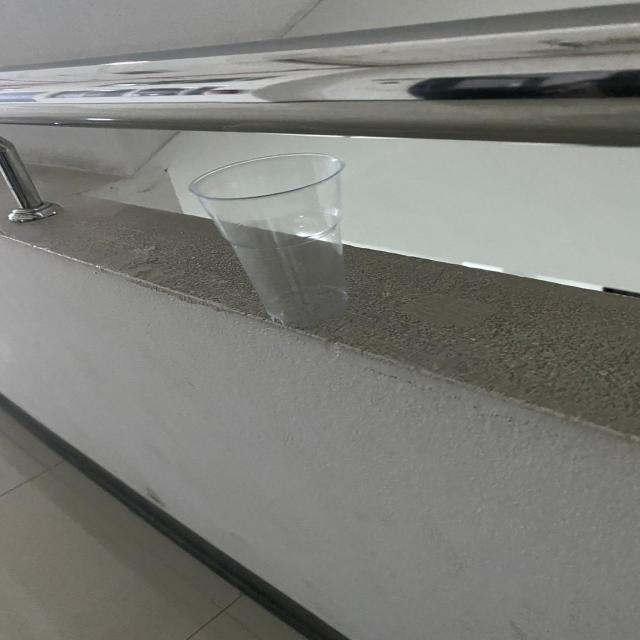glass: (188, 149, 359, 326)
